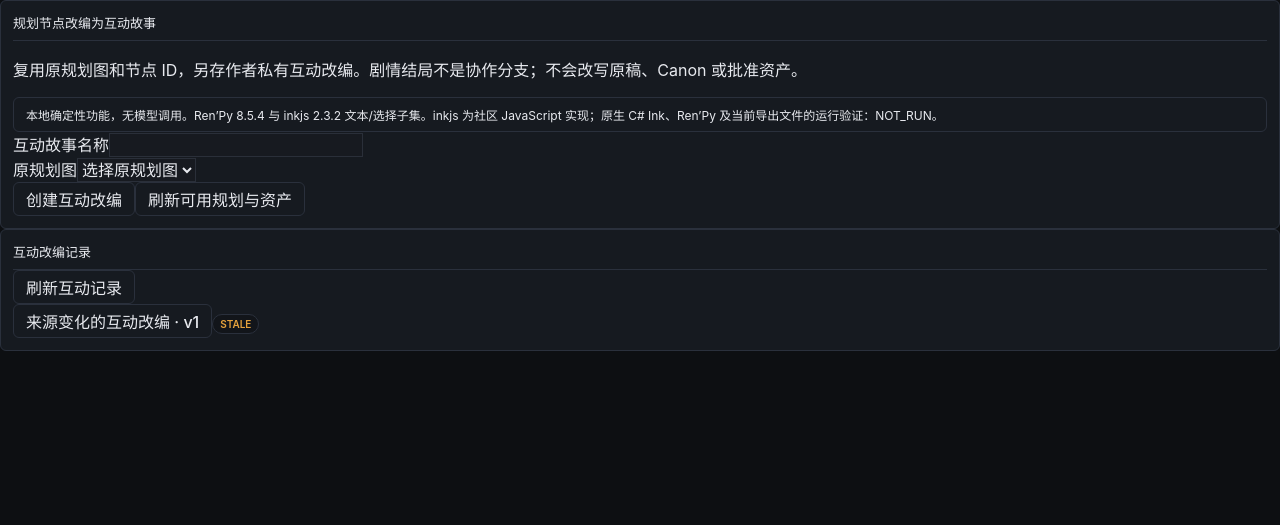
it: withholds stale content and identifies recovery rather than permitting preview
The width and height of the screenshot is (1280, 525).
Click the button "来源变化的互动改编 · v1" at [113, 321], box [13,304,212,338]
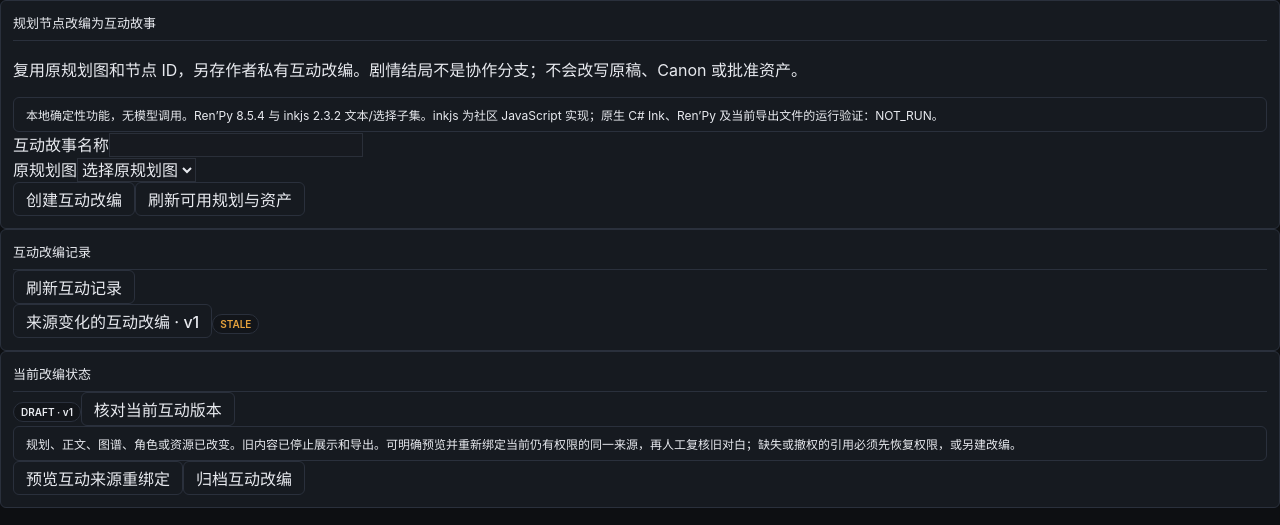
Check: the text "旧内容已停止展示和导出" is shown, box [26,437,1022,452]
